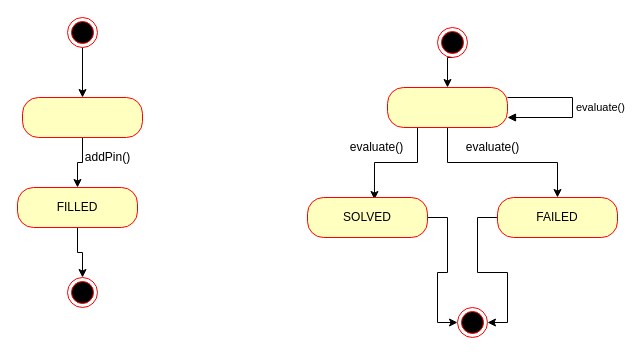
Some shapes in this 643 by 355 pixel diagram are drawn without their labels. Here are the shapes that lost their labels. From the top down, the centre of each, then its label:
At [82,117]: "EMPTY".
At [447,107]: "PLAYING".
